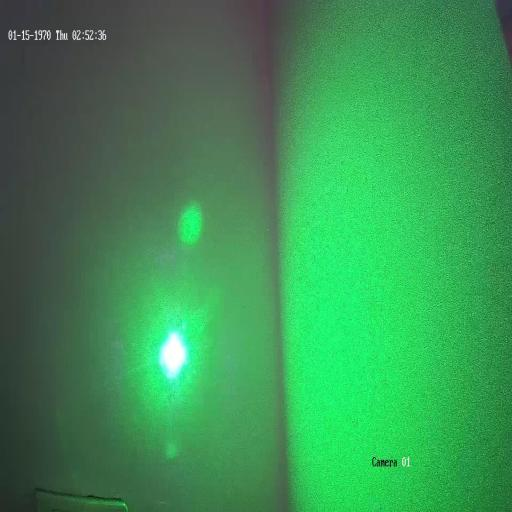laser: (156, 314, 192, 390)
